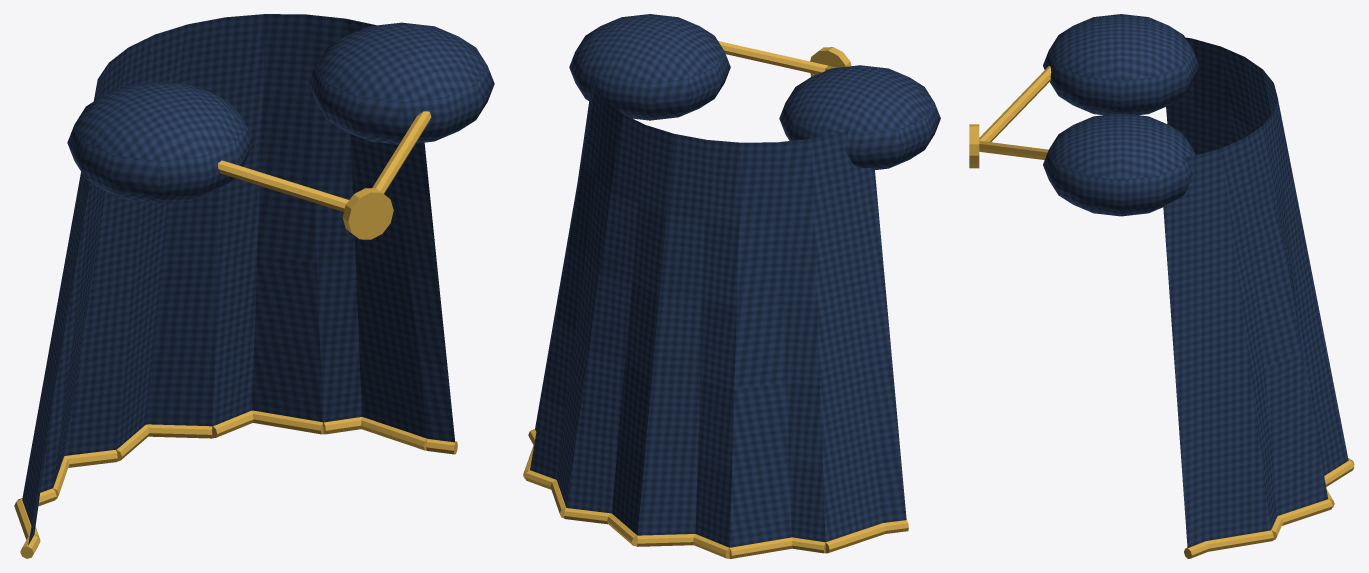
The model's file is champion_mantle.glb.
The picture shows the model from 3 angles, left to right: view 1: azimuth 30°, elevation 25°; view 2: azimuth 150°, elevation 25°; view 3: azimuth 270°, elevation 25°; orthographic projection. The views are drawn at different scales.
Parts seen in each view (by area): view 1: pleated_cape, shoulder_drape, shoulder_drape.001, clasp, clasp_chain, clasp_chain.001, gold_hem.003, gold_hem.001, gold_hem.005, gold_hem.007; view 2: pleated_cape, shoulder_drape.001, shoulder_drape, clasp_chain.001, gold_hem.008, gold_hem.010, gold_hem.006, clasp, gold_hem.004; view 3: pleated_cape, shoulder_drape, shoulder_drape.001, clasp_chain, clasp_chain.001, gold_hem.001, gold_hem.003, clasp.
Boxes of the visible parts, left/top/right/bottom form: pleated_cape: left=22, top=14, right=455, bottom=545; shoulder_drape: left=67, top=81, right=252, bottom=203; shoulder_drape.001: left=309, top=22, right=494, bottom=144; clasp: left=342, top=188, right=393, bottom=239; clasp_chain: left=218, top=160, right=348, bottom=211; clasp_chain.001: left=372, top=111, right=431, bottom=193; gold_hem.003: left=252, top=410, right=323, bottom=434; gold_hem.001: left=361, top=417, right=427, bottom=450; gold_hem.005: left=146, top=424, right=212, bottom=438; gold_hem.007: left=64, top=450, right=117, bottom=467; pleated_cape: left=530, top=68, right=906, bottom=547; shoulder_drape.001: left=569, top=14, right=730, bottom=120; shoulder_drape: left=779, top=65, right=940, bottom=169; clasp_chain.001: left=718, top=41, right=827, bottom=74; gold_hem.008: left=729, top=537, right=792, bottom=558; gold_hem.010: left=825, top=523, right=885, bottom=553; gold_hem.006: left=637, top=534, right=695, bottom=546; clasp: left=810, top=47, right=851, bottom=76; gold_hem.004: left=564, top=508, right=610, bottom=524; pleated_cape: left=1163, top=37, right=1348, bottom=547; shoulder_drape: left=1043, top=14, right=1199, bottom=115; shoulder_drape.001: left=1043, top=113, right=1195, bottom=216; clasp_chain: left=979, top=66, right=1051, bottom=142; clasp_chain.001: left=979, top=140, right=1048, bottom=159; gold_hem.001: left=1206, top=530, right=1273, bottom=551; gold_hem.003: left=1278, top=499, right=1332, bottom=525; clasp: left=969, top=124, right=979, bottom=168.
Bounding box in the file's own units: 0.8698 × 0.892 × 0.787.
Materials: 2 (1 with a texture image).
